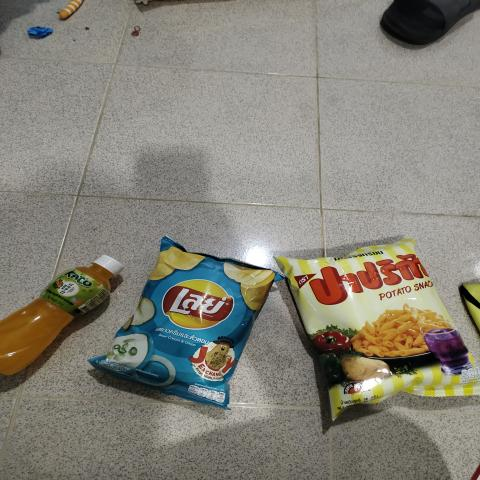lay_blue: (123, 255, 246, 394)
paprika: (304, 251, 465, 403)
